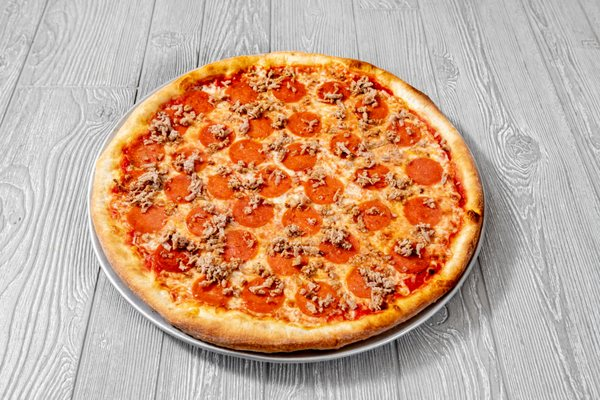curry: (13, 1, 598, 391)
sandwich: (90, 52, 481, 352)
